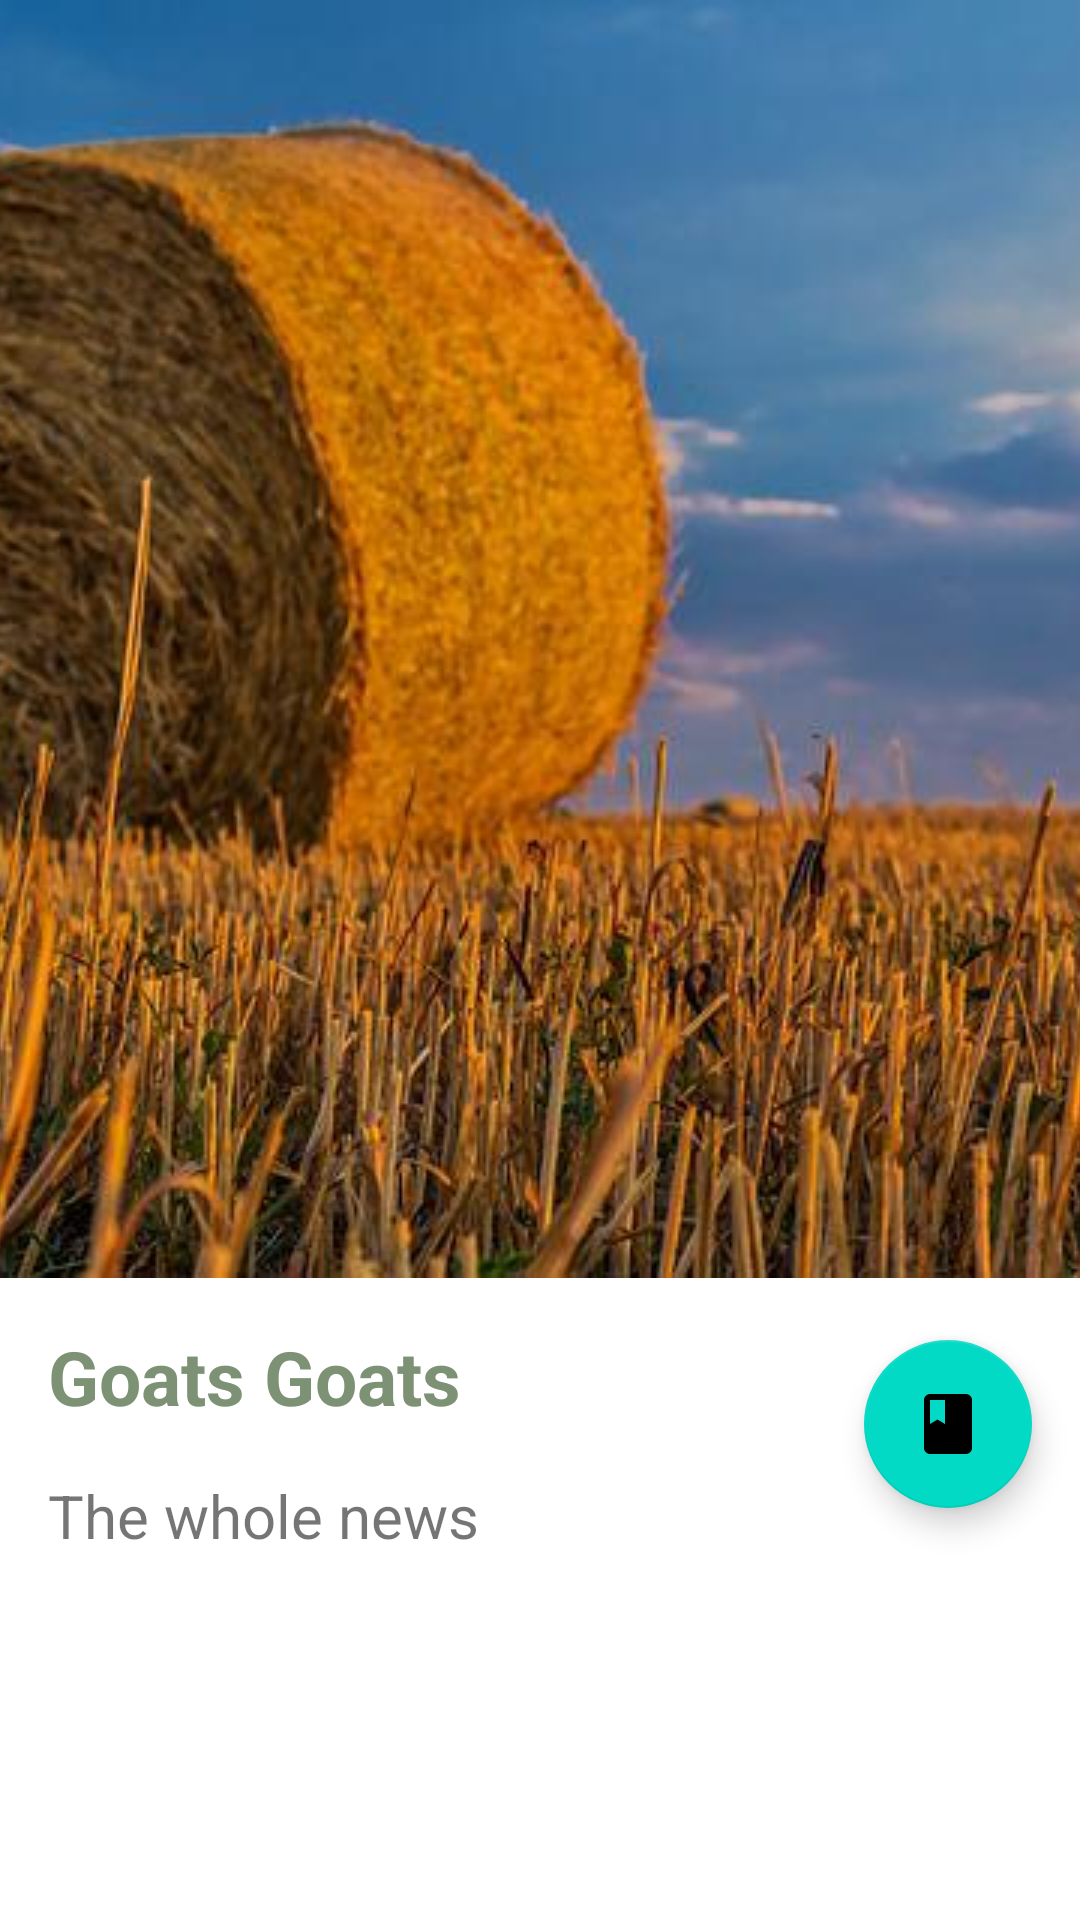

Icon click points for this 1080 × 1920 phone screenshot, format point (x, y):
bookmark: point (948, 1424)
